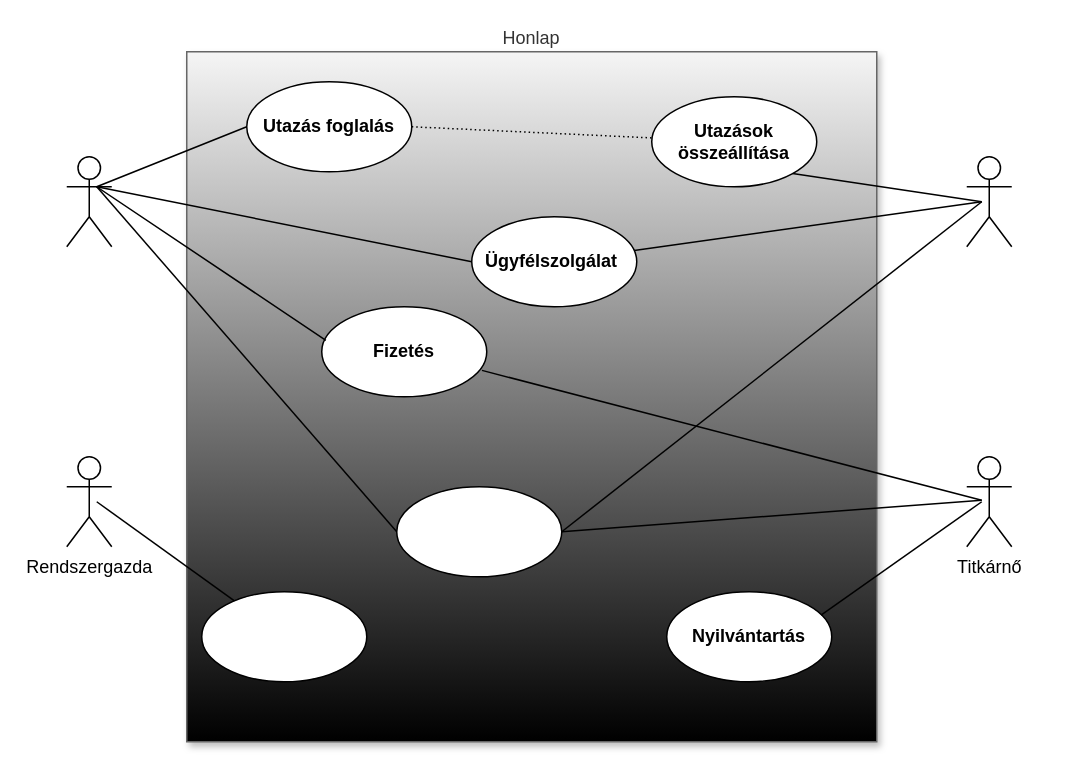
Image size: 1079x779. Some labels were removed from this diagram. Each missing label, with the centre of its shape:
"Karbantartás" goes at [283,636].
"Regisztráció/ Azonosítás" goes at [478,531].
"Utazásszervező" goes at [988,201].
"Ügyfél" goes at [88,201].
